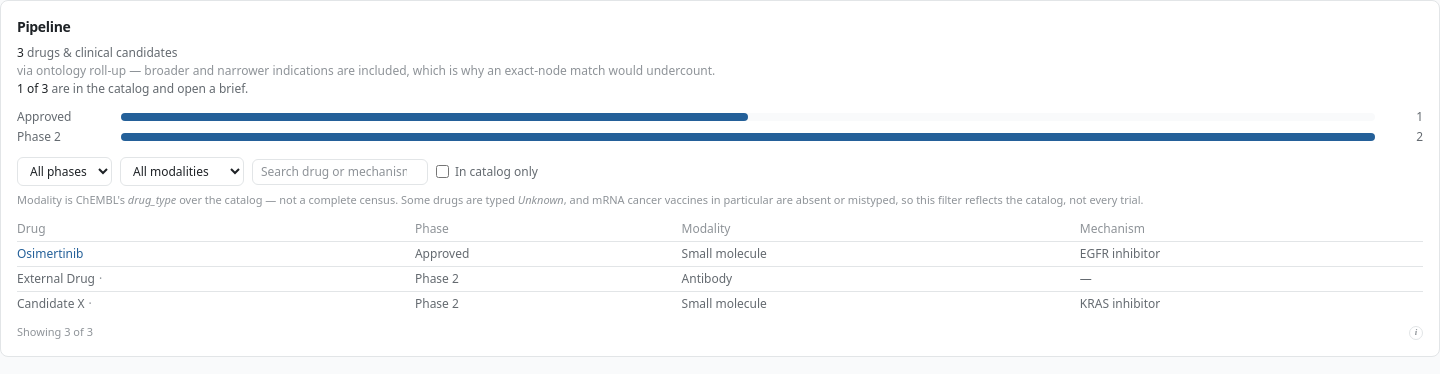
Test: PipelineCard › the modality filter narrows the table
Expected: the number of rows with test id "pipeline-row" is 3, left=17, top=241, right=1423, bottom=266; left=17, top=266, right=1423, bottom=291; left=17, top=291, right=1423, bottom=316
Select "Antibody" in the dropdown with test id "pipeline-filter-modality" at (182, 172), box left=120, top=157, right=244, bottom=186
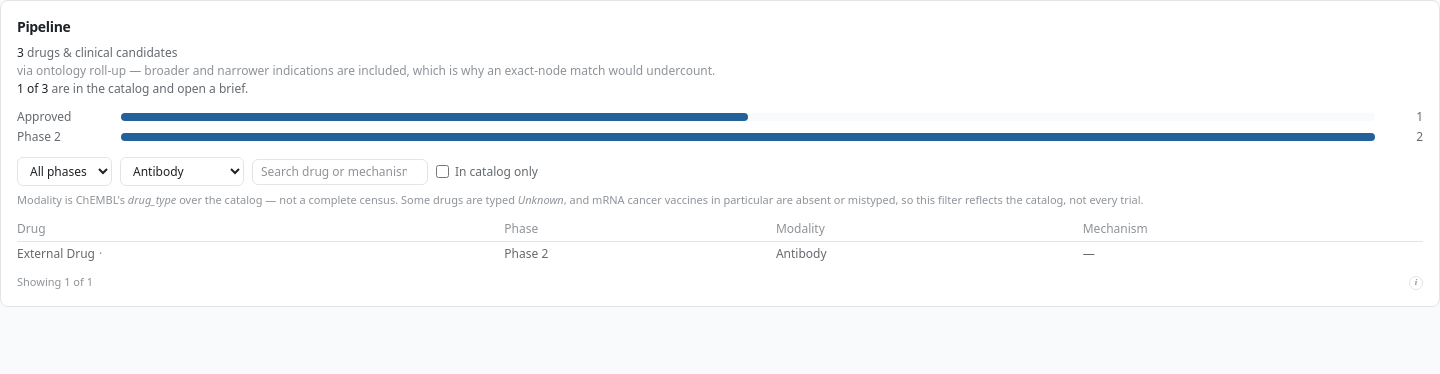
Expected: the text "External Drug" is shown, left=17, top=244, right=95, bottom=262
Expected: the number of rows with test id "pipeline-row" is 1, left=17, top=241, right=1423, bottom=266
